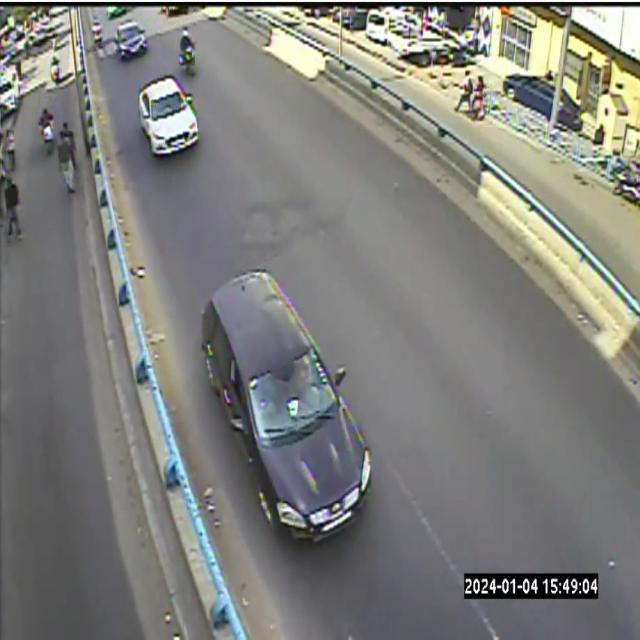car: (201, 269, 371, 538), (137, 77, 199, 154), (115, 20, 147, 59)
